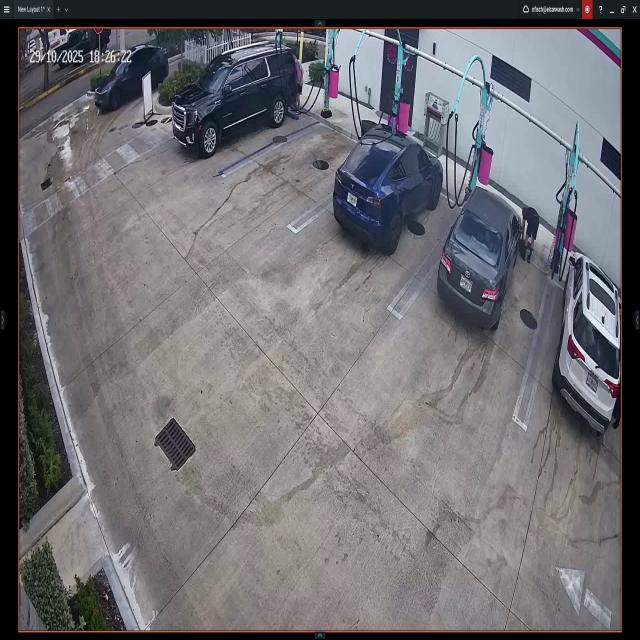Car: (334, 124, 442, 255), (171, 45, 299, 154), (437, 185, 523, 332), (554, 252, 619, 432), (94, 48, 169, 110)
